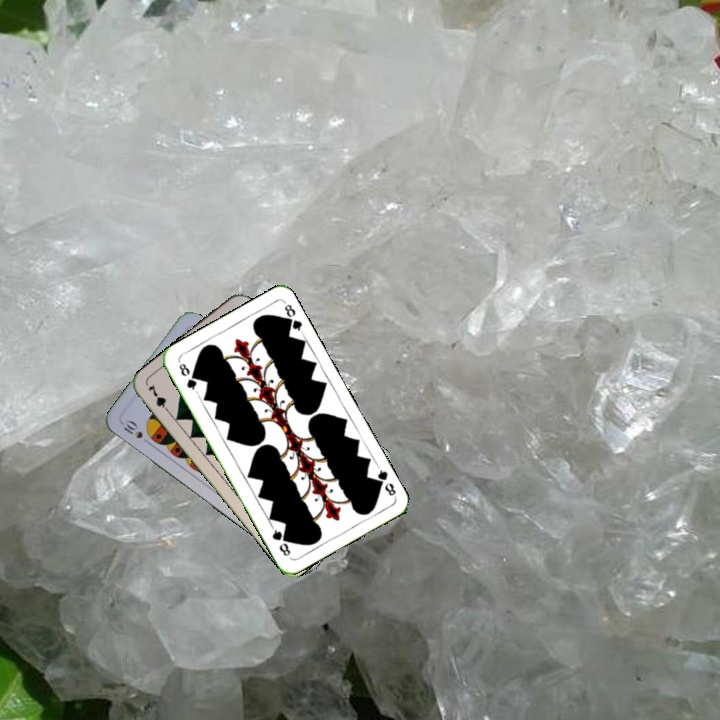G7: (143, 380, 174, 417)
G8: (370, 462, 399, 499), (175, 359, 200, 395)
S10: (119, 416, 145, 441)
